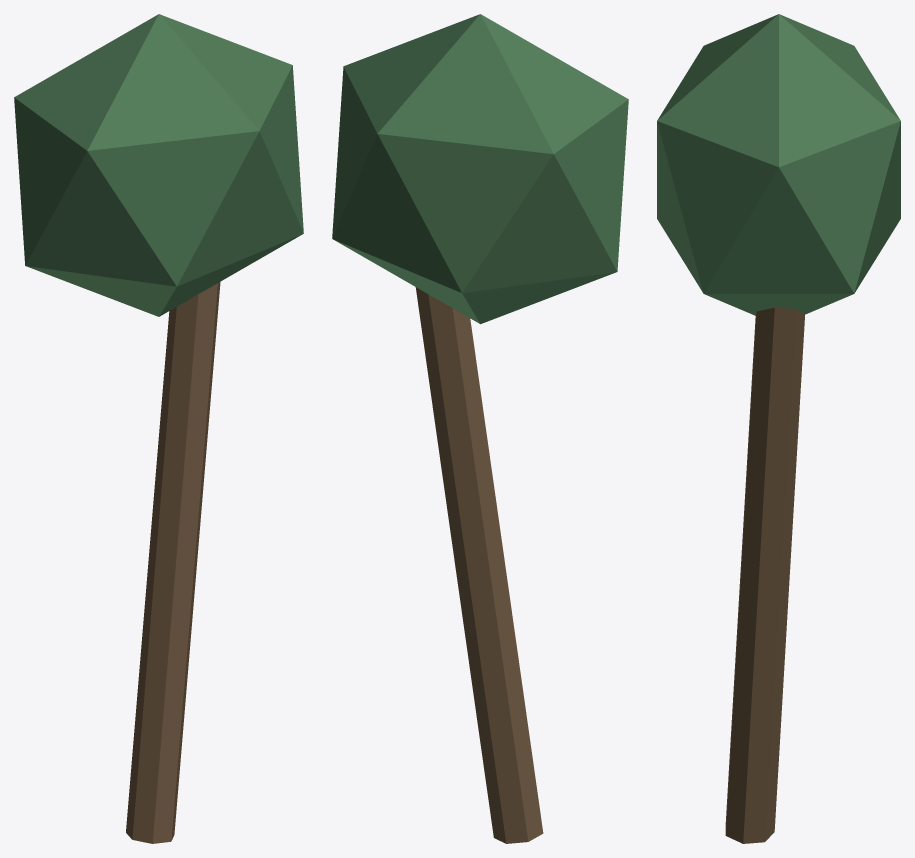
The model's file is norway-pine_lod1.glb.
3 views of the same model, side by side, from view 1: azimuth 30°, elevation 25°; view 2: azimuth 150°, elevation 25°; view 3: azimuth 270°, elevation 25° (orthographic). The views are drawn at different scales.
Parts seen in each view (by area): view 1: RF_Pine_CrownA, RF_Pine_Trunk; view 2: RF_Pine_CrownA, RF_Pine_Trunk; view 3: RF_Pine_CrownA, RF_Pine_Trunk.
Part boxes in pixels (box(x1,y1,x2,y2)): RF_Pine_CrownA: box(14, 14, 303, 316); RF_Pine_Trunk: box(126, 282, 220, 843); RF_Pine_CrownA: box(332, 14, 628, 324); RF_Pine_Trunk: box(415, 287, 543, 843); RF_Pine_CrownA: box(657, 14, 900, 315); RF_Pine_Trunk: box(725, 307, 804, 843).
Bounding box in the file's own units: 5.55 × 16 × 4.25.
